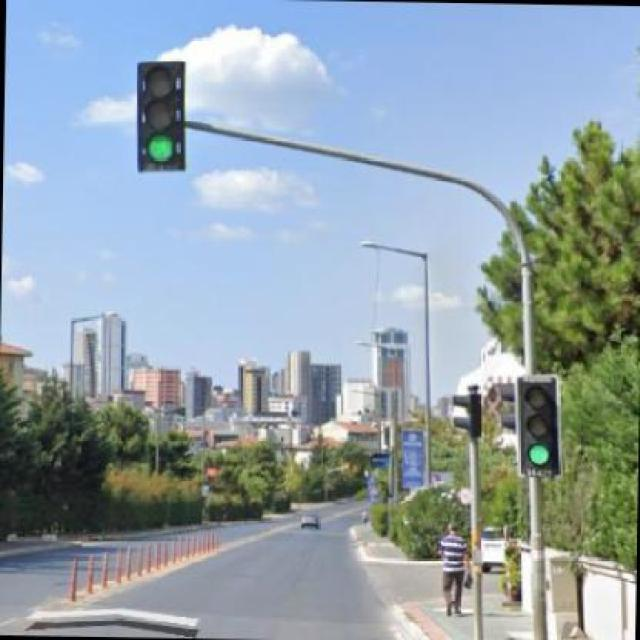yesil: (137, 61, 186, 171), (517, 377, 560, 475)
